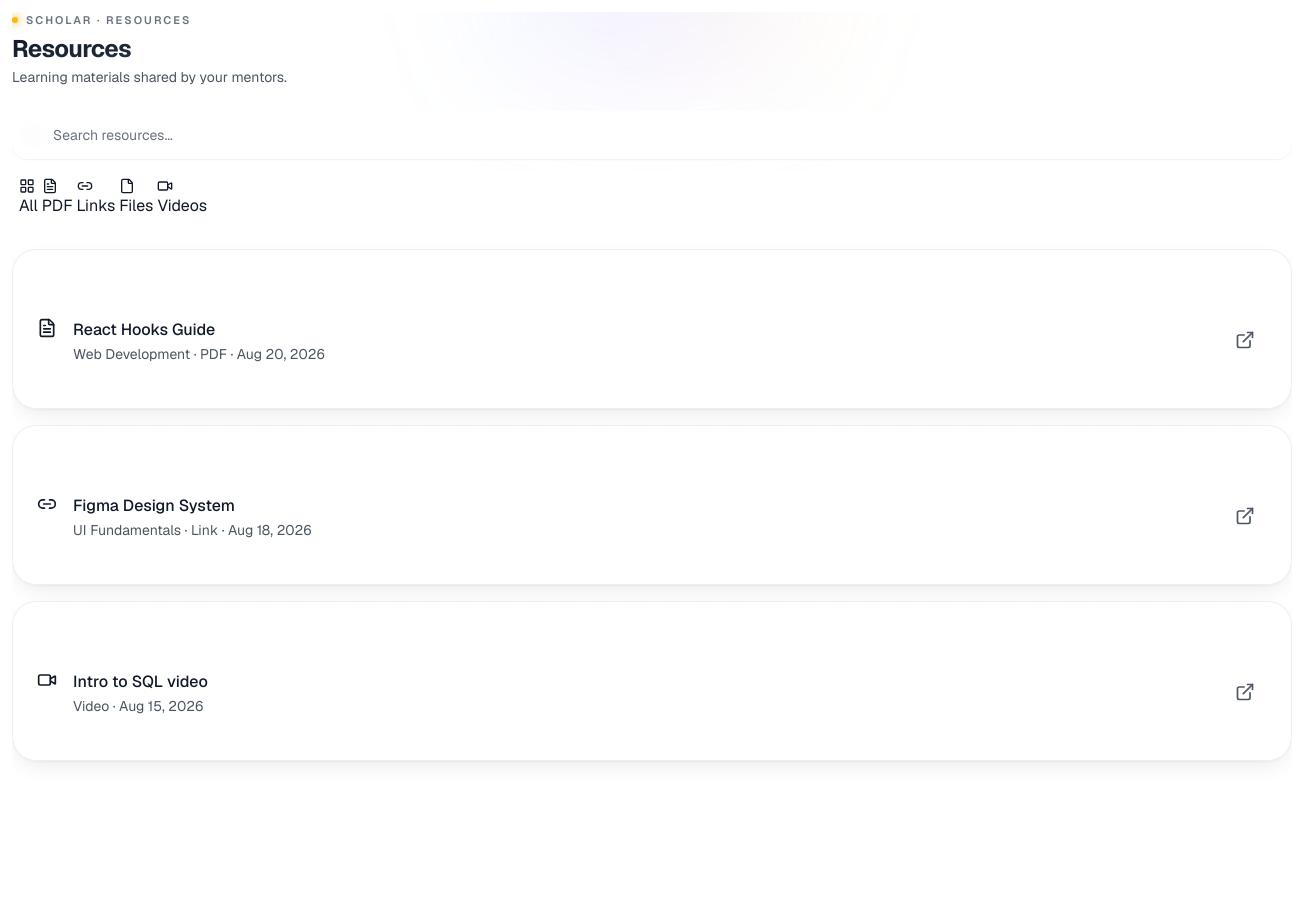
ResourcesView › filters by resource type
This screenshot has width=1304, height=912.
Click the button "Videos" at (182, 198), box [157,178,207,218]
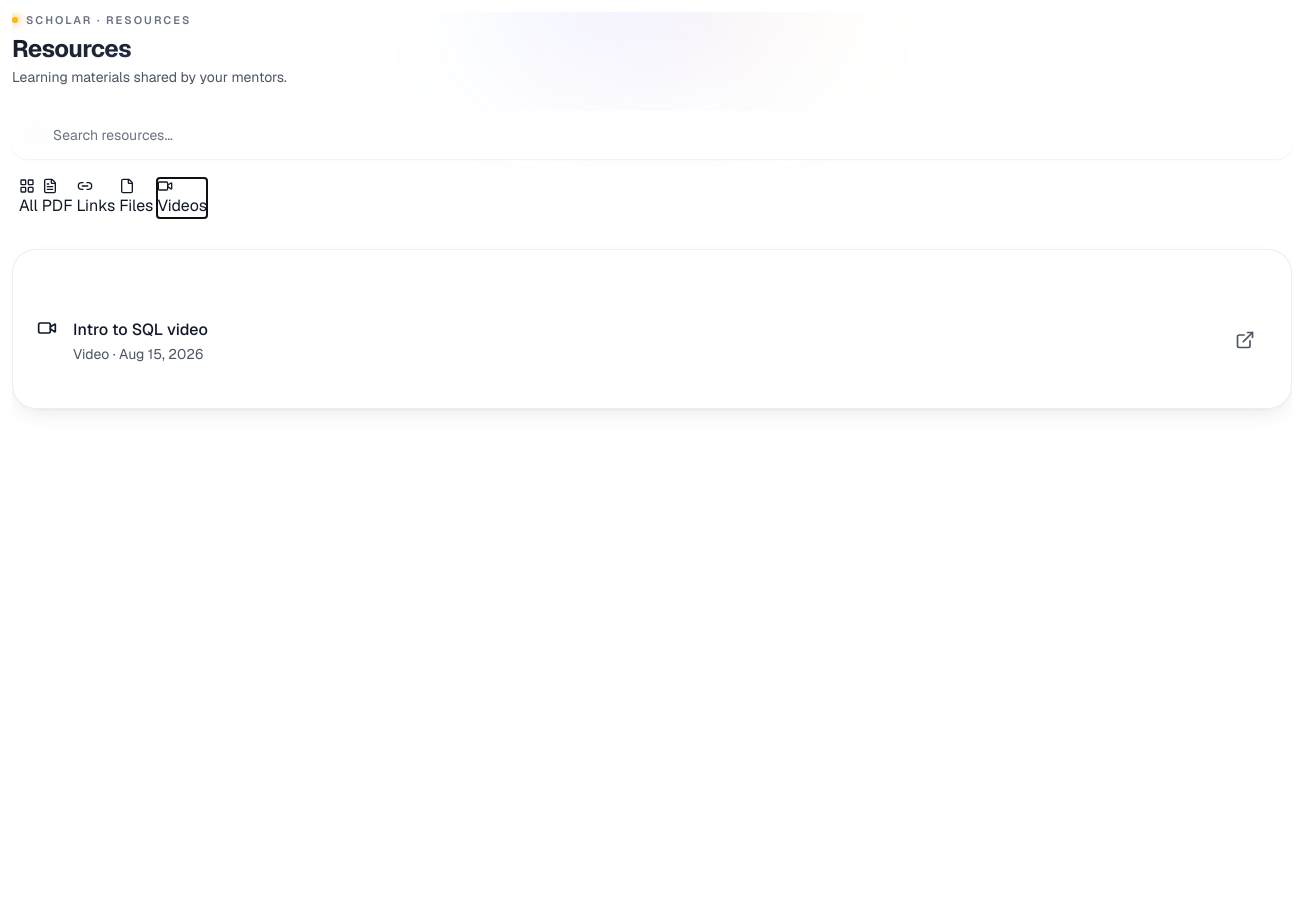
Expected: the text "Intro to SQL video" is shown, [73,318,208,342]
Expected: the text "React Hooks Guide" is gone
